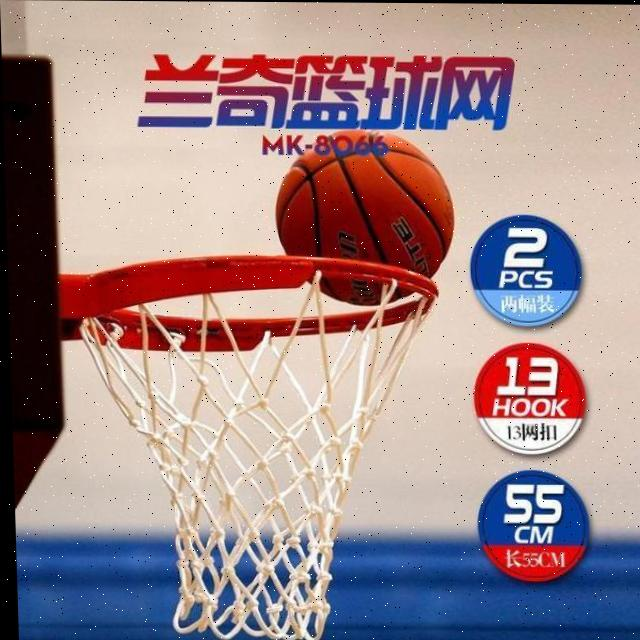rebound_hit: (274, 126, 457, 308)
